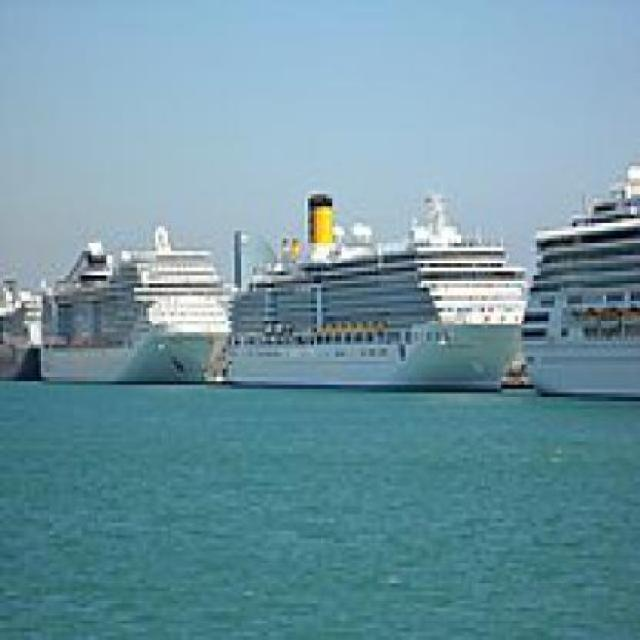cruise: (202, 183, 546, 410), (19, 216, 248, 399)
